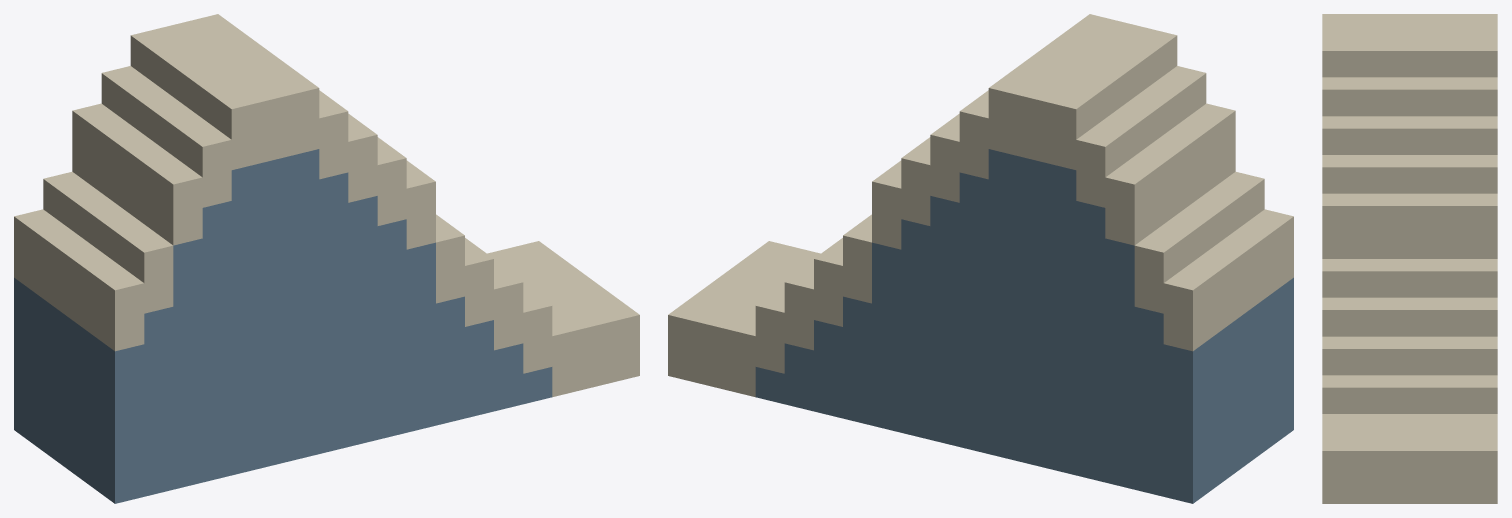
File: ocean-15.glb
The picture shows the model from 3 angles, left to right: view 1: azimuth 30°, elevation 25°; view 2: azimuth 150°, elevation 25°; view 3: azimuth 270°, elevation 25°; orthographic projection. The views are drawn at different scales.
Visible parts, largest first — view 1: Wave model; view 2: Wave model; view 3: Wave model.
Boxes of the visible parts, bbox=[...] form: Wave model: bbox=[14, 14, 639, 503]; Wave model: bbox=[668, 14, 1293, 503]; Wave model: bbox=[1322, 14, 1497, 503].
Bounding box in the file's own units: 1.44 × 0.96 × 0.48.
